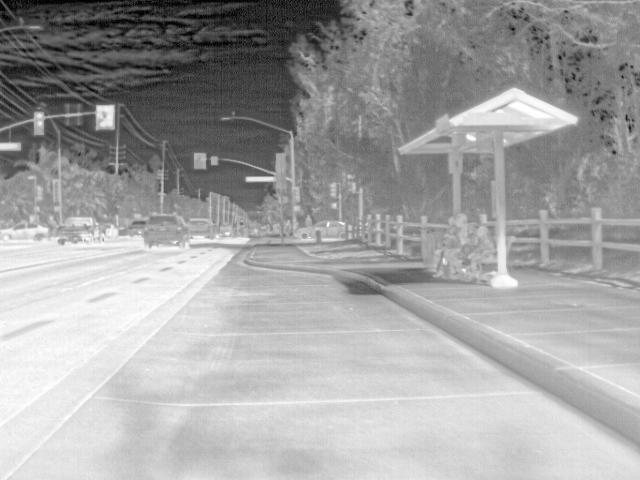car: (142, 213, 189, 247), (58, 218, 101, 244), (0, 221, 50, 241), (188, 218, 218, 241), (322, 219, 344, 239), (298, 220, 314, 240), (218, 222, 239, 237), (128, 220, 146, 236), (101, 224, 117, 238)
person: (468, 225, 494, 284), (454, 213, 469, 276), (444, 215, 456, 250), (45, 214, 57, 240), (283, 218, 291, 240)
